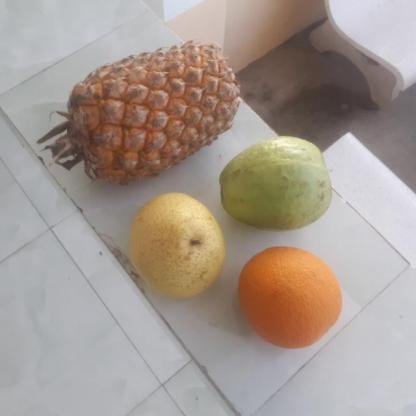guava: (218, 131, 329, 228)
orange: (233, 244, 343, 350)
pear: (125, 194, 224, 294)
pineapple: (58, 46, 234, 186)
